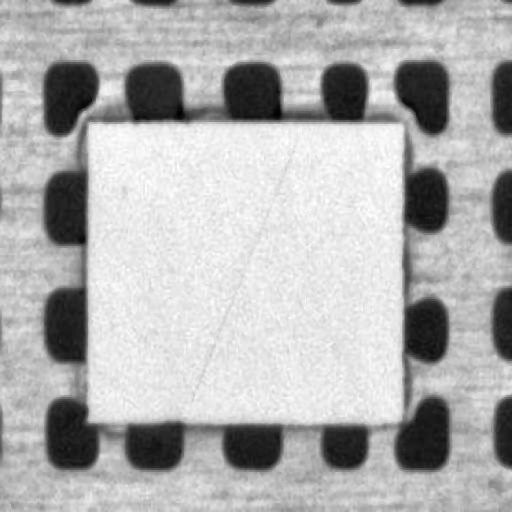DIE_CRACK: (252, 100, 396, 301)
